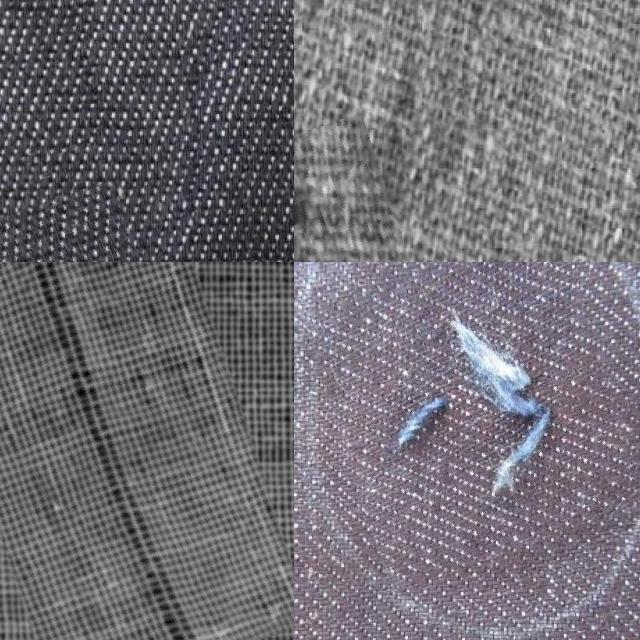other: (294, 128, 400, 262)
stains: (0, 262, 265, 640), (320, 262, 630, 573)
